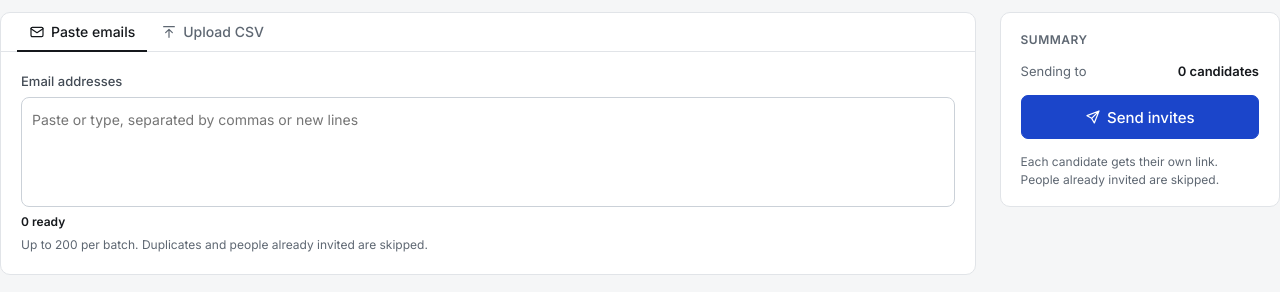
InviteCandidatesForm › marks invalid and already-invited addresses and counts only the ready ones
The width and height of the screenshot is (1280, 292).
Type "OLD@example.com lucas@@example new@example.com new@example.com " into the text box labelled "Email addresses" at (488, 121), box x1=32 y1=108 x2=944 y2=134
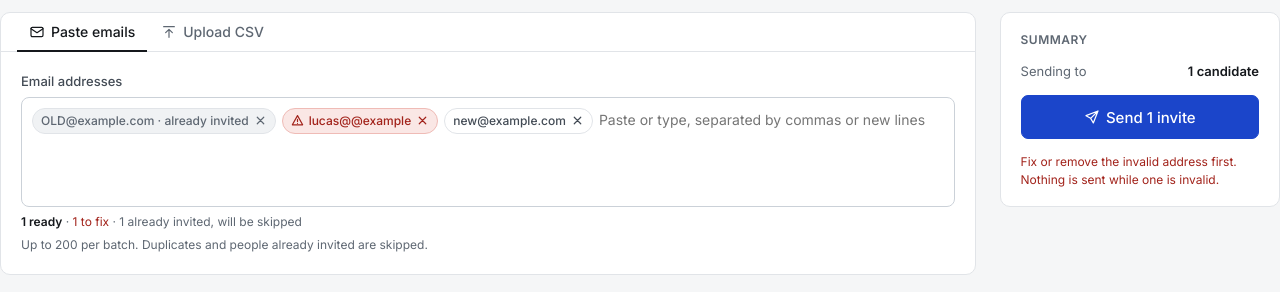
Result: the element with id "invite-counts" reads "1 ready · 1 to fix · 1 already invited, will be skipped" at x1=21 y1=214 x2=302 y2=229
Result: the text "OLD@example.com · already invited" is shown at x1=32 y1=108 x2=276 y2=134
Result: the element titled "Not a valid email address" reads "lucas@@example" at x1=309 y1=113 x2=411 y2=128
